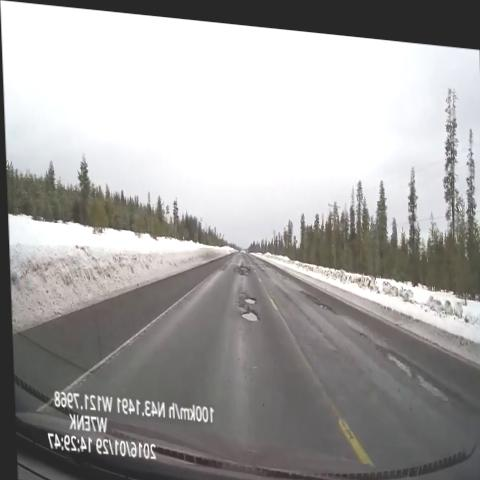pothole: (379, 339, 463, 416), (296, 278, 335, 314), (232, 297, 264, 328), (223, 252, 255, 277), (250, 244, 276, 273), (232, 286, 258, 308)
